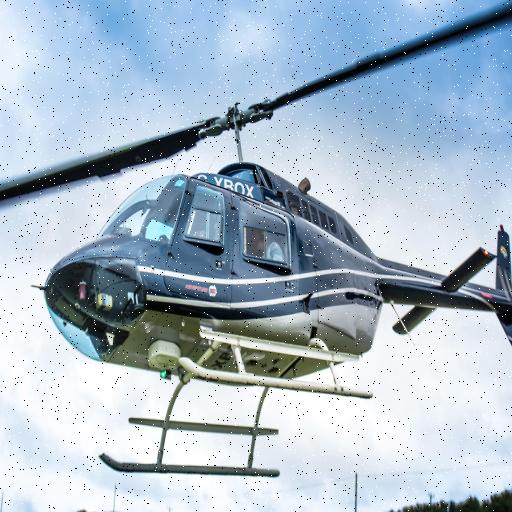helicopter: (1, 1, 512, 486)
